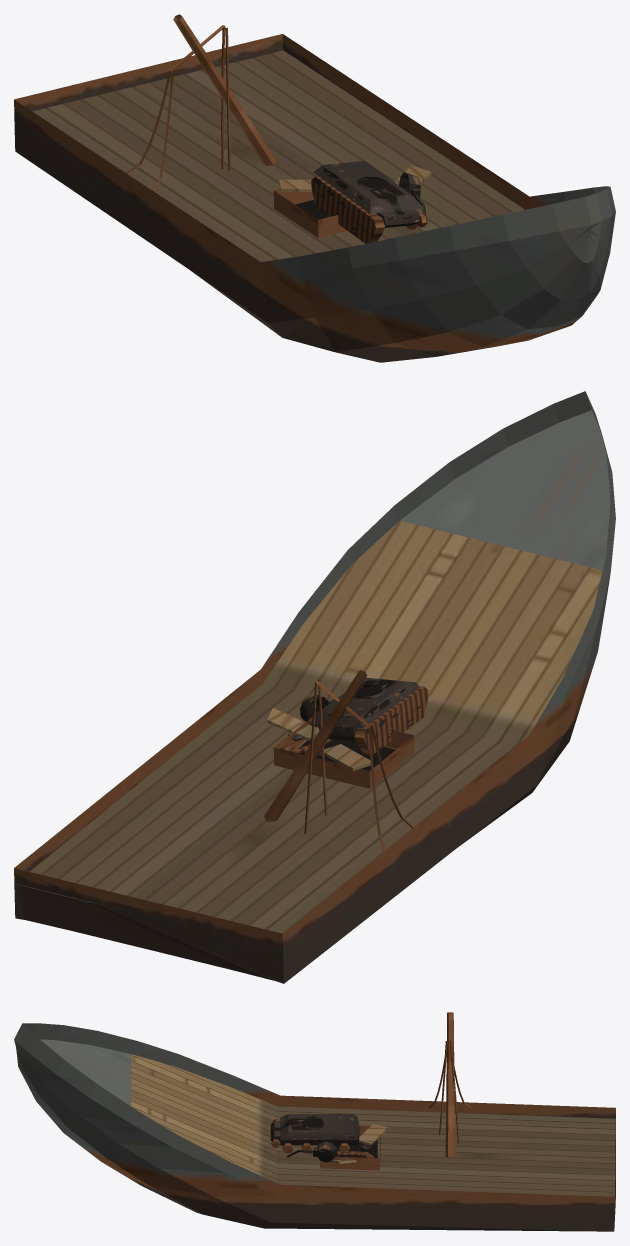
File: traces.glb
The picture shows the model from 3 angles, top to bottom: view 1: azimuth 30°, elevation 25°; view 2: azimuth 150°, elevation 25°; view 3: azimuth 270°, elevation 25°; orthographic projection. The views are drawn at different scales.
Visible parts, largest first — view 1: bordage, pont, caisse_haute, mat, chenille, haubans, hiloire, panneaux, caisse_basse; view 2: pont, bordage, gaillard, hiloire, mat, caisse_haute, chenille, haubans, panneaux; view 3: bordage, pont, gaillard, caisse_haute, mat, hiloire, haubans, caisse_basse, panneaux, tourelle, galets, cale.
Boxes of the visible parts, x1=… form: bordage: x1=14, y1=34, x2=615, y2=362; pont: x1=32, y1=50, x2=524, y2=261; caisse_haute: x1=313, y1=161, x2=423, y2=213; mat: x1=169, y1=14, x2=276, y2=165; chenille: x1=311, y1=176, x2=384, y2=243; haubans: x1=125, y1=25, x2=230, y2=193; hiloire: x1=273, y1=189, x2=347, y2=237; panneaux: x1=279, y1=165, x2=431, y2=191; caisse_basse: x1=376, y1=210, x2=420, y2=227; pont: x1=15, y1=521, x2=602, y2=933; bordage: x1=14, y1=391, x2=615, y2=983; gaillard: x1=400, y1=410, x2=610, y2=569; hiloire: x1=273, y1=712, x2=414, y2=788; mat: x1=264, y1=670, x2=370, y2=821; caisse_haute: x1=310, y1=677, x2=420, y2=728; chenille: x1=354, y1=686, x2=428, y2=754; haubans: x1=304, y1=679, x2=414, y2=852; panneaux: x1=266, y1=708, x2=370, y2=770; bordage: x1=14, y1=1023, x2=615, y2=1231; pont: x1=131, y1=1054, x2=615, y2=1196; gaillard: x1=40, y1=1039, x2=131, y2=1106; caisse_haute: x1=280, y1=1114, x2=357, y2=1139; mat: x1=445, y1=1012, x2=455, y2=1156; hiloire: x1=320, y1=1125, x2=380, y2=1170; haubans: x1=428, y1=1041, x2=471, y2=1143; caisse_basse: x1=270, y1=1121, x2=359, y2=1145; panneaux: x1=331, y1=1124, x2=388, y2=1163; tourelle: x1=312, y1=1141, x2=337, y2=1162; galets: x1=271, y1=1139, x2=349, y2=1153; cale: x1=334, y1=1140, x2=377, y2=1158.
Bounding box in the file's own units: 14 × 12 × 40.
Materials: 4 (4 with a texture image).
